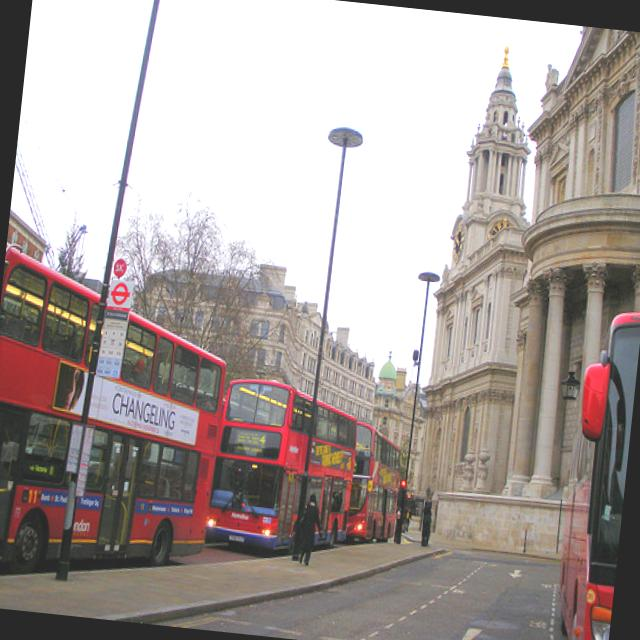Vehicle: (0, 231, 240, 591), (548, 297, 640, 640), (208, 372, 360, 562), (344, 418, 410, 549)
